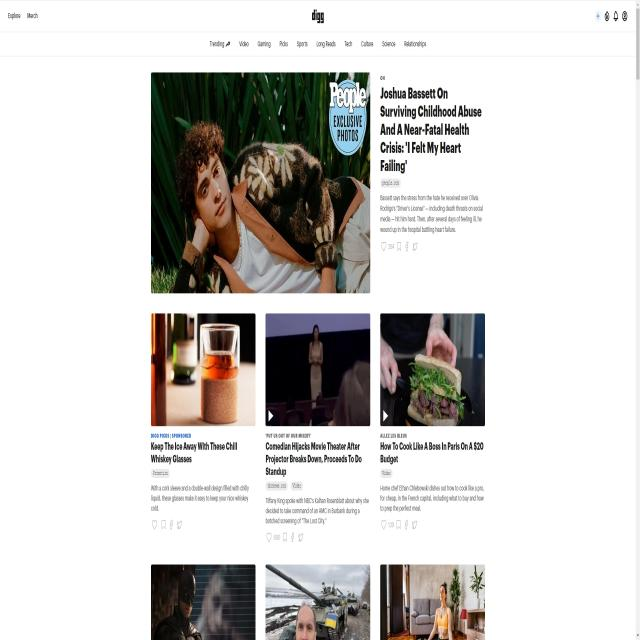menu-bar: (203, 27, 429, 54)
